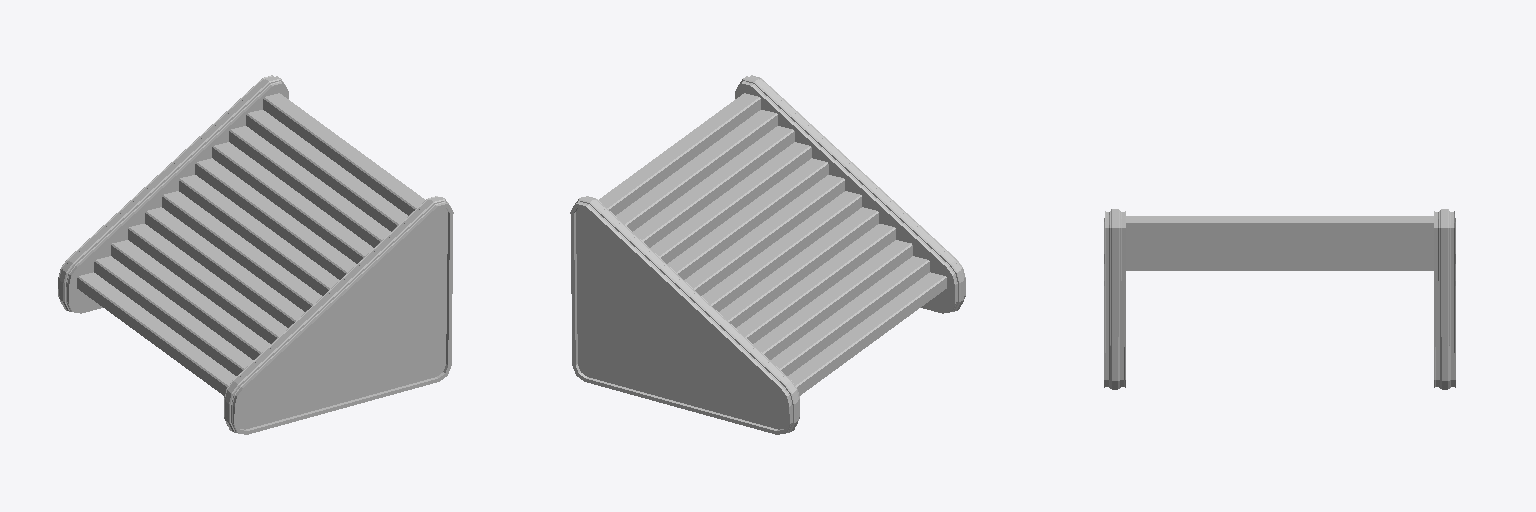
Rendered from stairs.obj.
3 views of the same model, side by side, from view 1: azimuth 30°, elevation 25°; view 2: azimuth 150°, elevation 25°; view 3: azimuth 270°, elevation 25° (orthographic).
Parts seen in each view (by area): view 1: polySurface4; view 2: polySurface4; view 3: polySurface4.
Boxes of the visible parts, <box> form: polySurface4: <box>58,75,453,434</box>; polySurface4: <box>570,75,965,434</box>; polySurface4: <box>1104,209,1455,389</box>.
Size of the model in its own units: 13.01 by 10.33 by 17.78.